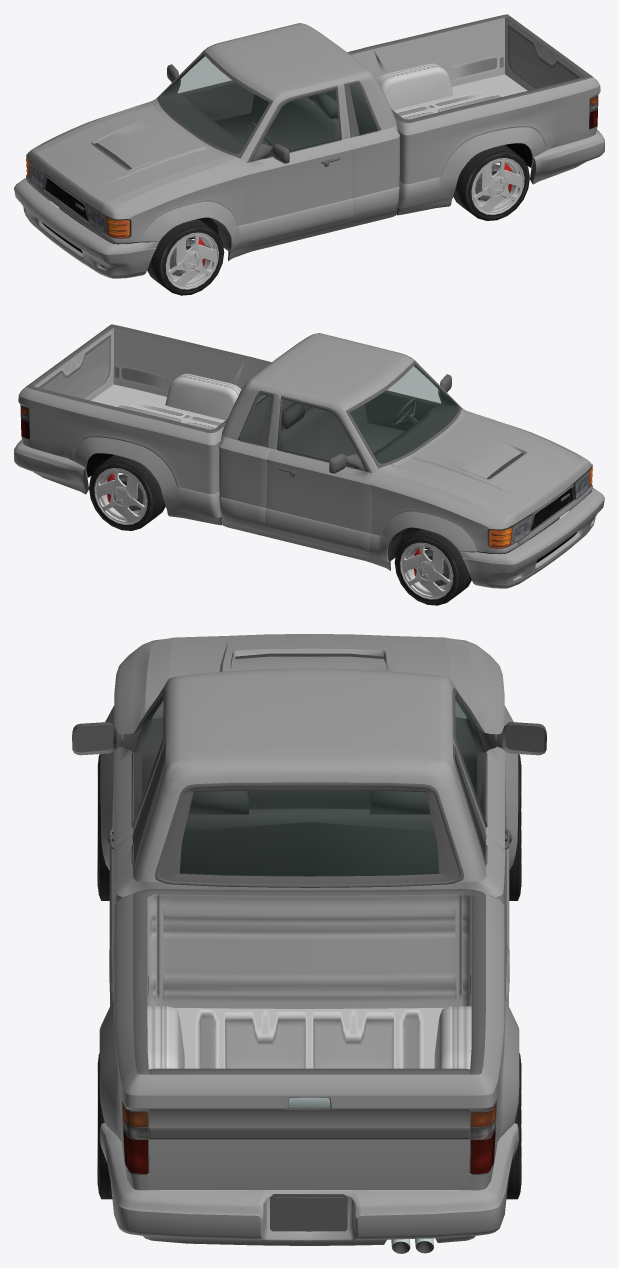
The model's file is TRUCK1.fbx.
3 views of the same model, one above another, from view 1: azimuth 30°, elevation 25°; view 2: azimuth 150°, elevation 25°; view 3: azimuth 270°, elevation 25° (orthographic). The views are drawn at different scales.
Visible parts, largest first — view 1: body, trunk, hood, glass, interior, fender_left, bumper_front, wheel_02, wheel_01, trunk_door, bumper_rear, sideskirts (+4 smaller); view 2: body, trunk, hood, glass, interior, fender_right, bumper_front, wheel_04, wheel_03, trunk_door, bumper_rear, sideskirts (+4 smaller); view 3: body, trunk, trunk_door, glass, interior, bumper_rear, hood, fender_left, fender_right, backlights, wheel_03, wheel_02 (+2 smaller).
Part boxes in pixels (x1=…): body: x1=154, y1=14, x2=600, y2=246; trunk: x1=351, y1=18, x2=527, y2=119; hood: x1=33, y1=105, x2=223, y2=212; glass: x1=160, y1=54, x2=377, y2=156; interior: x1=159, y1=54, x2=377, y2=157; fender_left: x1=100, y1=154, x2=249, y2=252; bumper_front: x1=14, y1=178, x2=158, y2=278; wheel_02: x1=453, y1=145, x2=529, y2=220; wheel_01: x1=147, y1=219, x2=224, y2=295; trunk_door: x1=505, y1=16, x2=589, y2=90; bumper_rear: x1=530, y1=129, x2=604, y2=184; sideskirts: x1=228, y1=198, x2=452, y2=260; body: x1=18, y1=324, x2=464, y2=556; trunk: x1=91, y1=328, x2=267, y2=429; hood: x1=395, y1=415, x2=585, y2=522; glass: x1=241, y1=364, x2=458, y2=466; interior: x1=241, y1=364, x2=459, y2=467; fender_right: x1=369, y1=464, x2=518, y2=562; bumper_front: x1=460, y1=488, x2=604, y2=588; wheel_04: x1=394, y1=529, x2=471, y2=605; wheel_03: x1=89, y1=455, x2=165, y2=530; trunk_door: x1=29, y1=326, x2=113, y2=400; bumper_rear: x1=14, y1=439, x2=88, y2=494; sideskirts: x1=166, y1=508, x2=390, y2=570; body: x1=72, y1=668, x2=546, y2=1190; trunk: x1=147, y1=894, x2=471, y2=1190; trunk_door: x1=149, y1=1068, x2=470, y2=1189; glass: x1=134, y1=696, x2=484, y2=884; interior: x1=133, y1=696, x2=485, y2=876; bumper_rear: x1=100, y1=1123, x2=518, y2=1245; hood: x1=168, y1=634, x2=450, y2=679; fender_left: x1=100, y1=637, x2=172, y2=870; fender_right: x1=446, y1=637, x2=518, y2=869; backlights: x1=122, y1=1101, x2=496, y2=1174; wheel_03: x1=506, y1=1053, x2=521, y2=1199; wheel_02: x1=97, y1=1053, x2=112, y2=1199.
Size of the model in its own units: 485 by 147 by 194.
16 materials, 11 textured.
